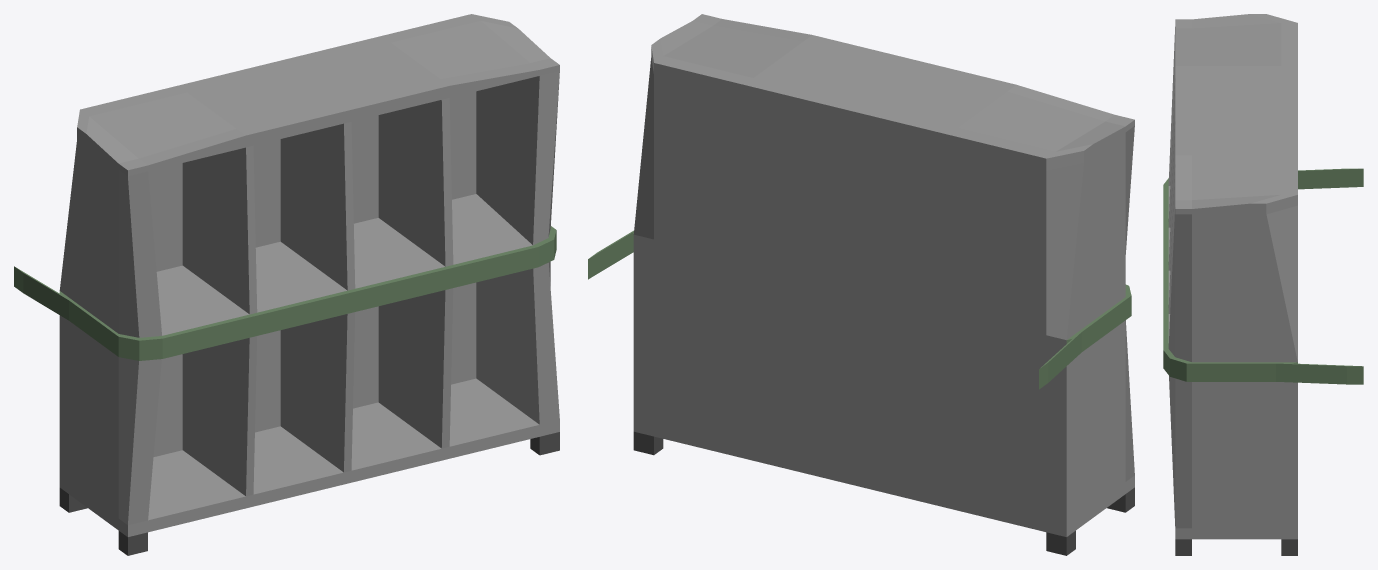
The model's file is szawka.fbx.
The picture shows the model from 3 angles, left to right: view 1: azimuth 30°, elevation 25°; view 2: azimuth 150°, elevation 25°; view 3: azimuth 270°, elevation 25°; orthographic projection. The views are drawn at different scales.
Visible parts, largest first — view 1: Cube; view 2: Cube; view 3: Cube.
Boxes of the visible parts, x1,y1,x2,y2 form: Cube: (14, 14, 559, 555); Cube: (588, 14, 1134, 555); Cube: (1163, 14, 1363, 555).
Bounding box in the file's own units: 763 × 634 × 327.
